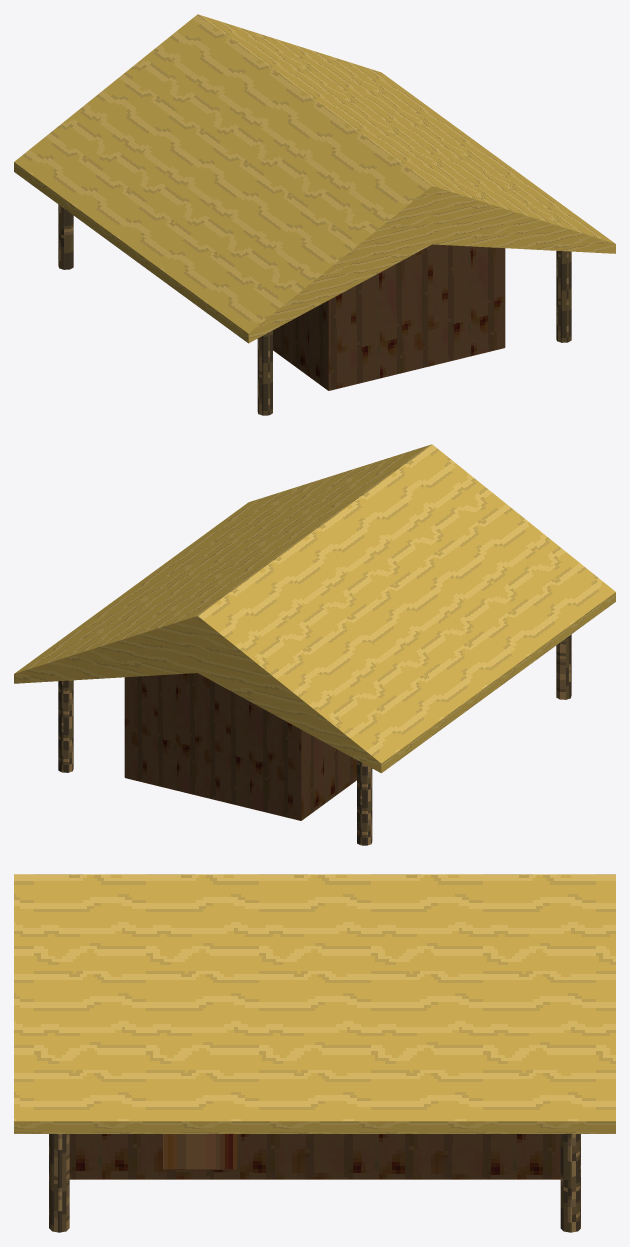
File: Cabana.fbx
3 renders of one model, top to bottom at view 1: azimuth 30°, elevation 25°; view 2: azimuth 150°, elevation 25°; view 3: azimuth 270°, elevation 25°, orthographic. The views are drawn at different scales.
Parts seen in each view (by area): view 1: Telhado, Cabana, Pilares; view 2: Telhado, Cabana, Pilares; view 3: Telhado, Cabana, Pilares.
Part boxes in pixels (left/top/right/bottom): Telhado: left=14, top=14, right=615, bottom=343; Cabana: left=273, top=244, right=505, bottom=390; Pilares: left=58, top=204, right=571, bottom=415; Telhado: left=14, top=444, right=615, bottom=773; Cabana: left=124, top=673, right=356, bottom=820; Pilares: left=58, top=634, right=571, bottom=845; Telhado: left=14, top=874, right=615, bottom=1133; Cabana: left=69, top=1134, right=560, bottom=1179; Pilares: left=49, top=1134, right=580, bottom=1232.
Bounding box in the file's own units: 416 × 220 × 460.
3 materials, 3 textured.
